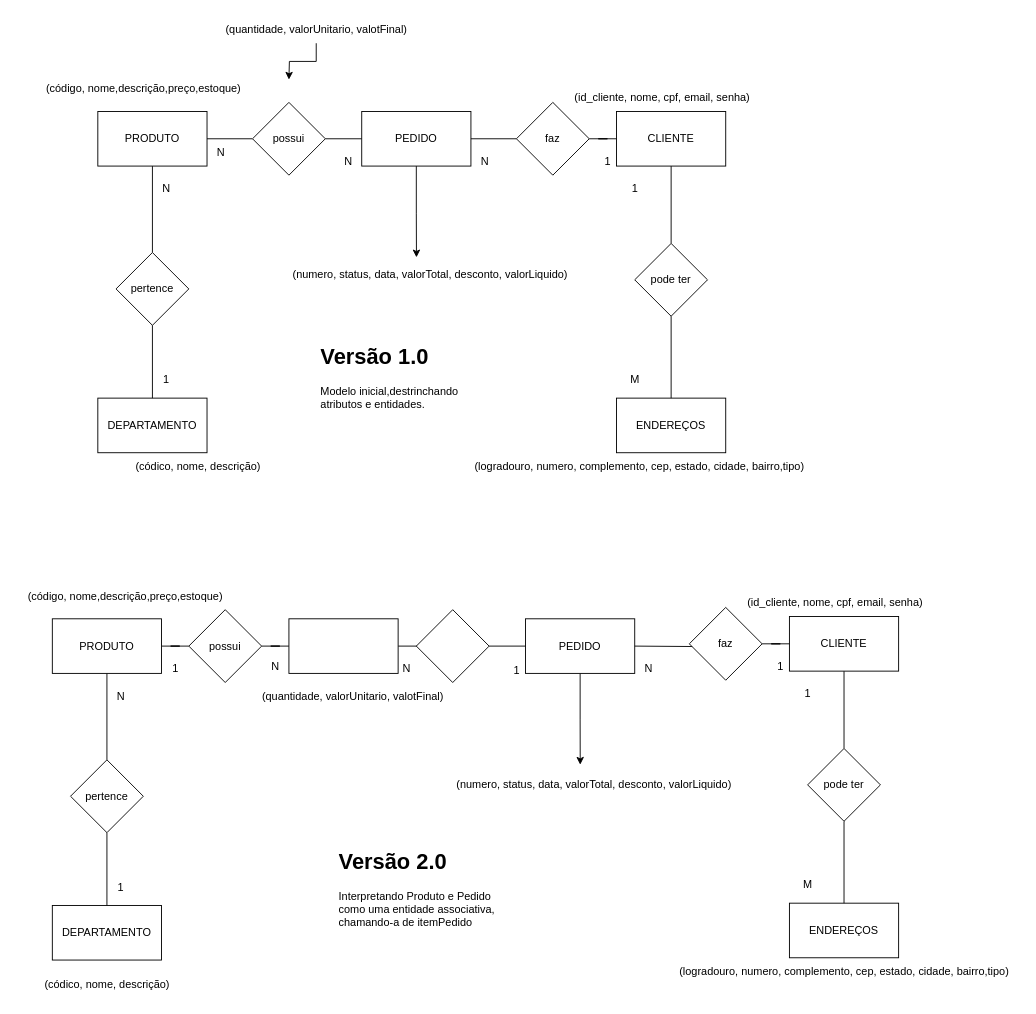
Some shapes in this 1036 by 1014 pixel diagram are drawn without their labels. The centre of each missing label's shape, as x and y in pixels:
"contém" belongs at (x=452, y=645).
"itemPedido" belongs at (x=343, y=645).
